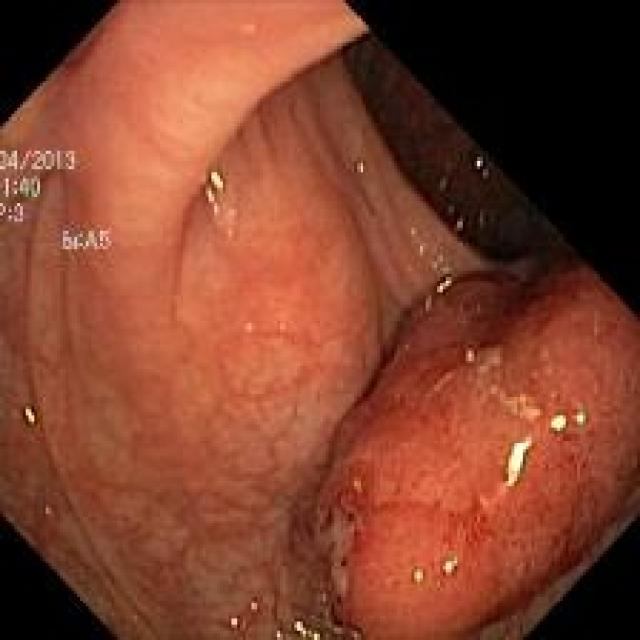Polyps: (315, 264, 640, 638)
